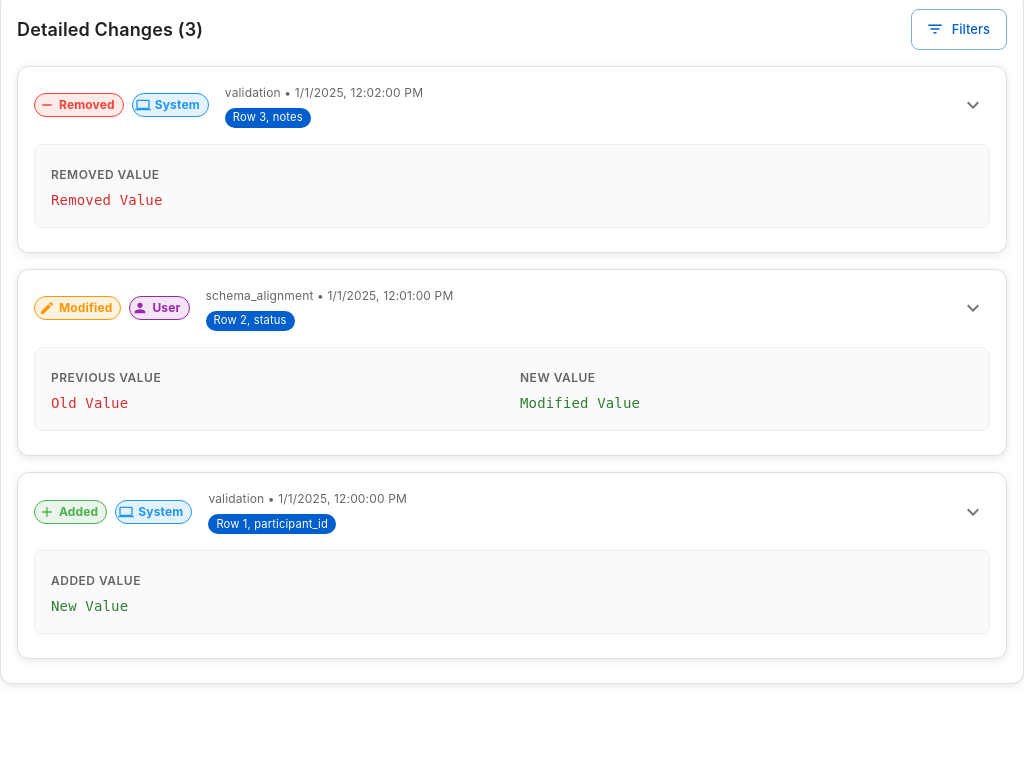
DetailedChangesList › Change Expansion › should expand change details when expand button is clicked
Click expand button for first change
Click the button with test id "ExpandMoreIcon" at (973, 105), box [956,88,990,122]
(page scrolled)
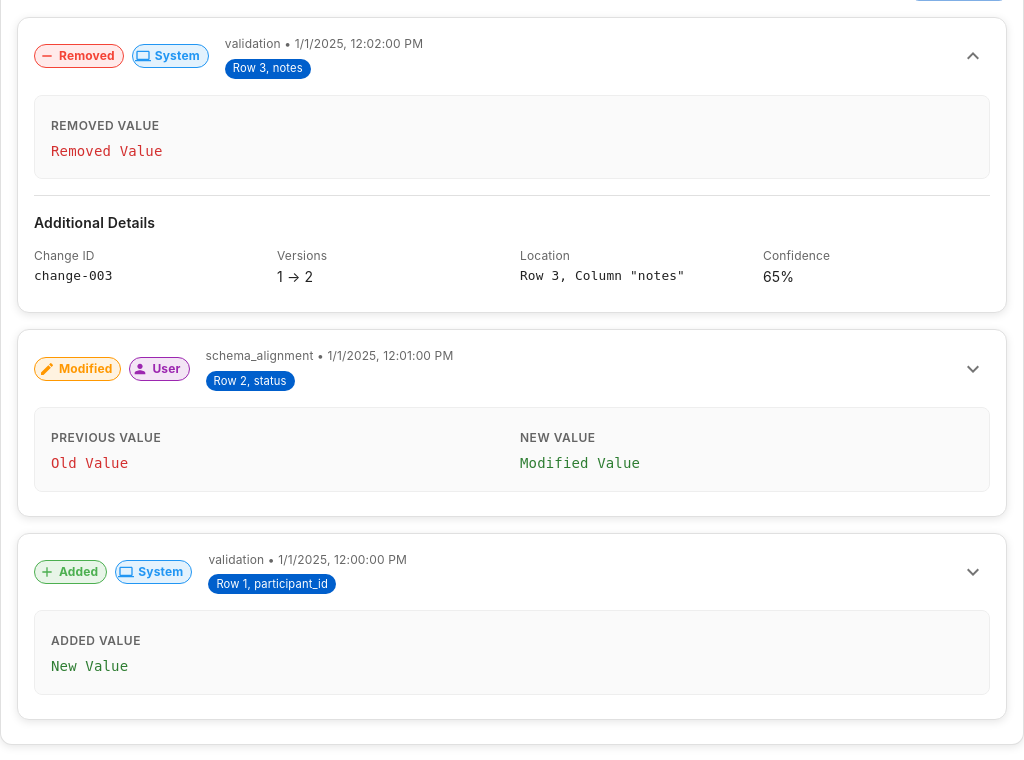
Now the heading "Additional Details" is shown, box [34,214,155,231]
Now the text "Change ID" is shown, box [34,248,95,263]
